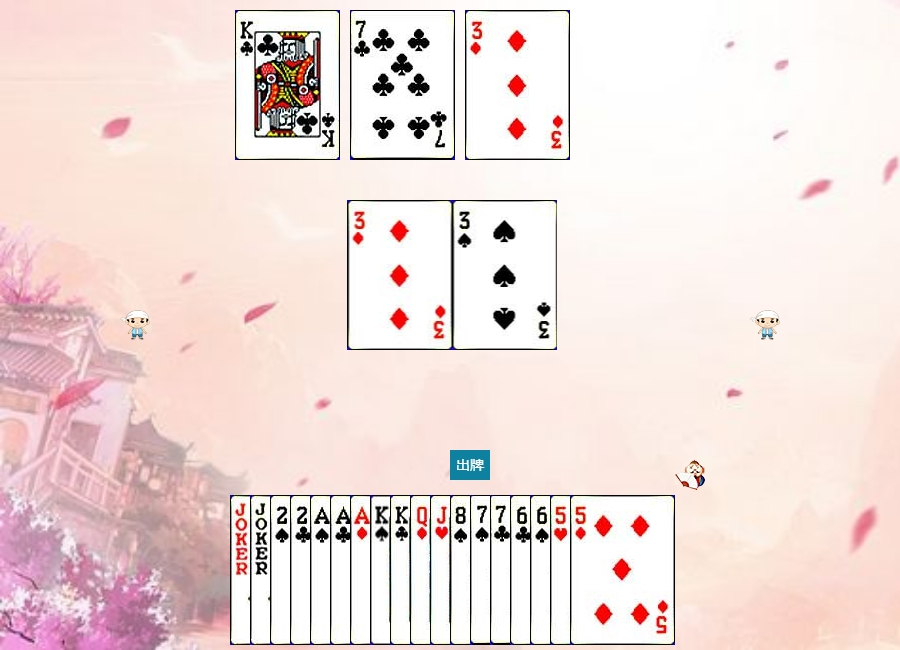11~3: (430, 495, 535, 645)
12~1: (410, 495, 515, 645)
13~2: (235, 10, 340, 160), (390, 495, 495, 645)
13~4: (370, 495, 475, 645)
14~1: (350, 495, 455, 645)
14~2: (330, 495, 435, 645)
14~4: (310, 495, 415, 645)
15~2: (290, 495, 395, 645)
15~4: (270, 495, 375, 645)
17~3: (250, 495, 355, 645)
18~4: (230, 495, 335, 645)
3~1: (465, 10, 570, 160), (348, 200, 453, 350)
3~4: (453, 200, 558, 350)
5~1: (570, 495, 675, 645)
5~3: (550, 495, 655, 645)
6~2: (510, 495, 615, 645)
6~4: (530, 495, 635, 645)
7~2: (350, 10, 455, 160), (490, 495, 595, 645)
7~4: (470, 495, 575, 645)
8~4: (450, 495, 555, 645)
